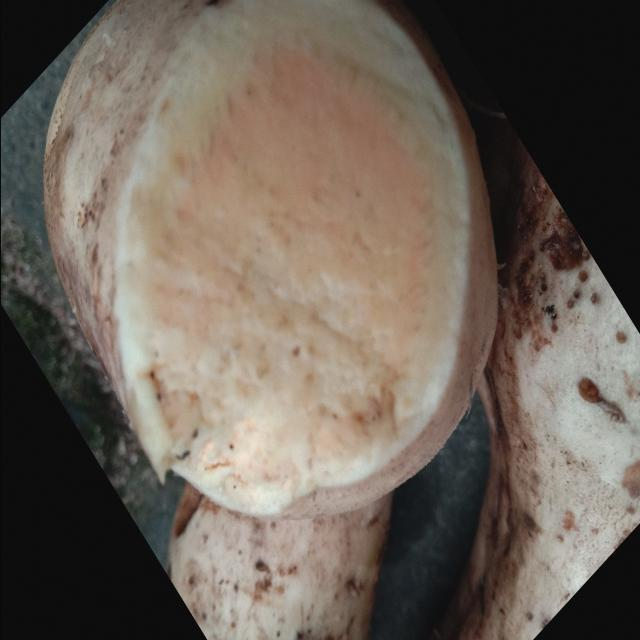Healthy Sweet Potato: (115, 2, 468, 513)
